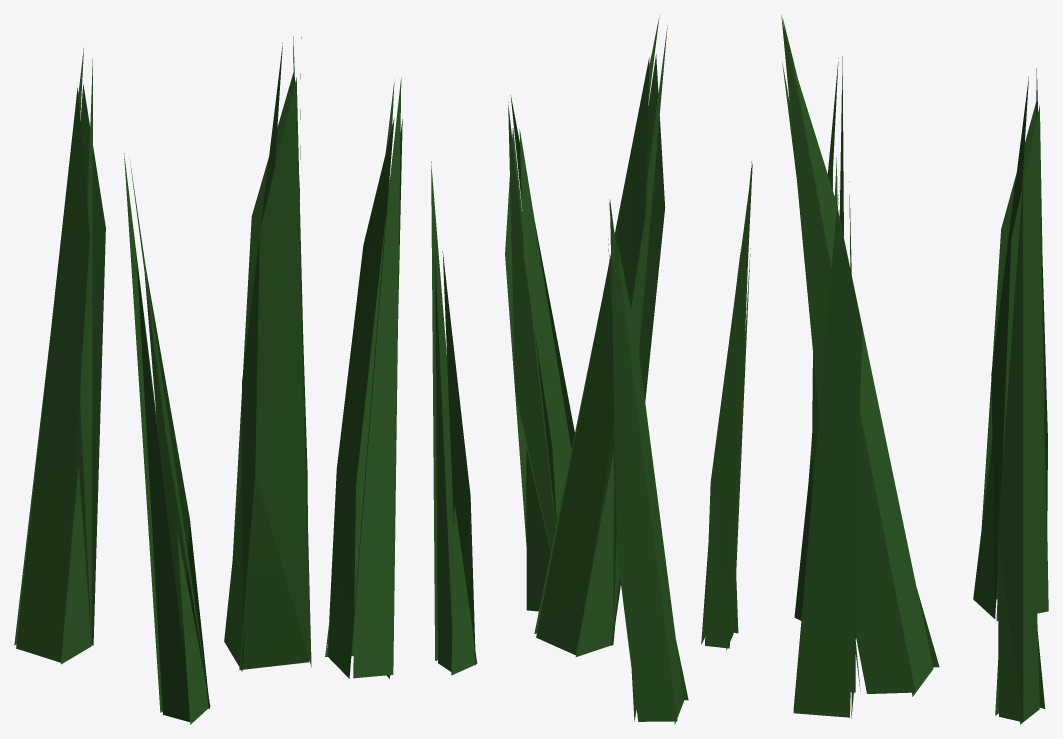
The model's file is Grass3_med.glb.
3 views of the same model, side by side, from view 1: azimuth 30°, elevation 25°; view 2: azimuth 150°, elevation 25°; view 3: azimuth 270°, elevation 25° (orthographic). The views are drawn at different scales.
Visible parts, largest first — view 1: Grass_007; view 2: Grass_007; view 3: Grass_007.
Boxes of the visible parts, x1,y1,x2,y2 form: Grass_007: (14,36,402,724); Grass_007: (431,15,752,724); Grass_007: (781,15,1048,724).
Bounding box in the file's own units: 0.2442 × 0.5511 × 0.2041.
Materials: 1 (1 with a texture image).
